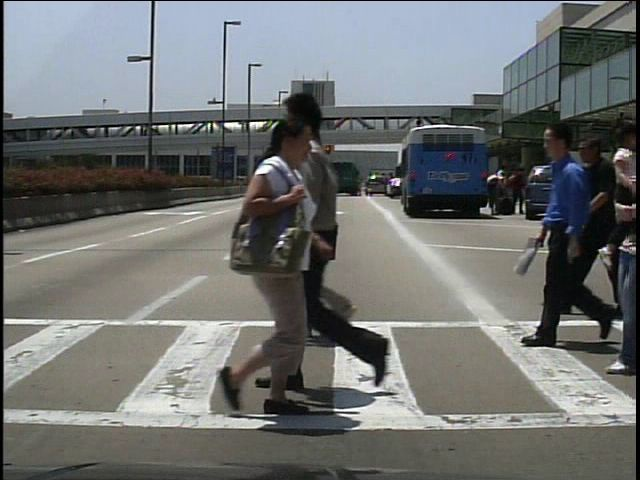person: (241, 85, 397, 407), (200, 114, 334, 421), (258, 118, 385, 351), (515, 114, 629, 348), (559, 130, 631, 322), (582, 168, 602, 218), (486, 162, 504, 214), (508, 166, 526, 216)
